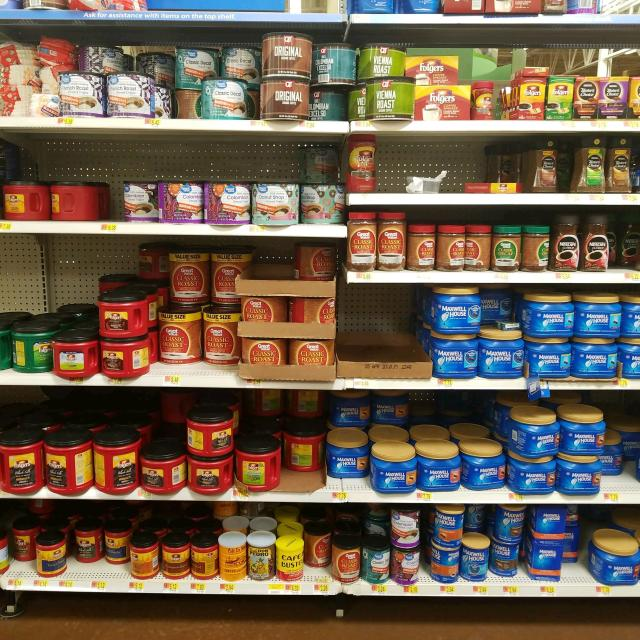void: (381, 282, 425, 390), (343, 287, 377, 387), (382, 134, 413, 206), (445, 138, 476, 205), (419, 135, 444, 206), (617, 207, 639, 285)
